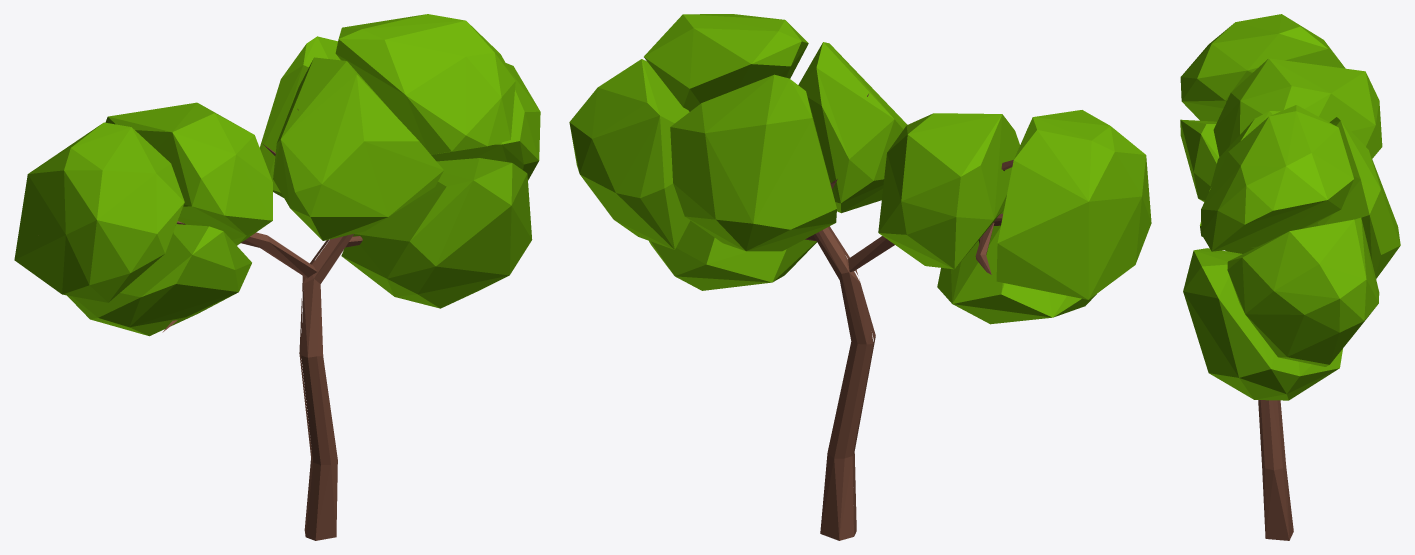
Rendered from estilizada-NormalTree_4.glb.
3 renders of one model, left to right at view 1: azimuth 30°, elevation 25°; view 2: azimuth 150°, elevation 25°; view 3: azimuth 270°, elevation 25°, orthographic. The views are drawn at different scales.
Visible parts, largest first — view 1: NormalTree_4.001; view 2: NormalTree_4.001; view 3: NormalTree_4.001.
Part boxes in pixels (box(x1,y1,x2,y2)): NormalTree_4.001: box(14, 14, 540, 540); NormalTree_4.001: box(569, 14, 1151, 540); NormalTree_4.001: box(1180, 14, 1400, 540).
Size of the model in its own units: 5.49 by 5.03 by 2.25.
